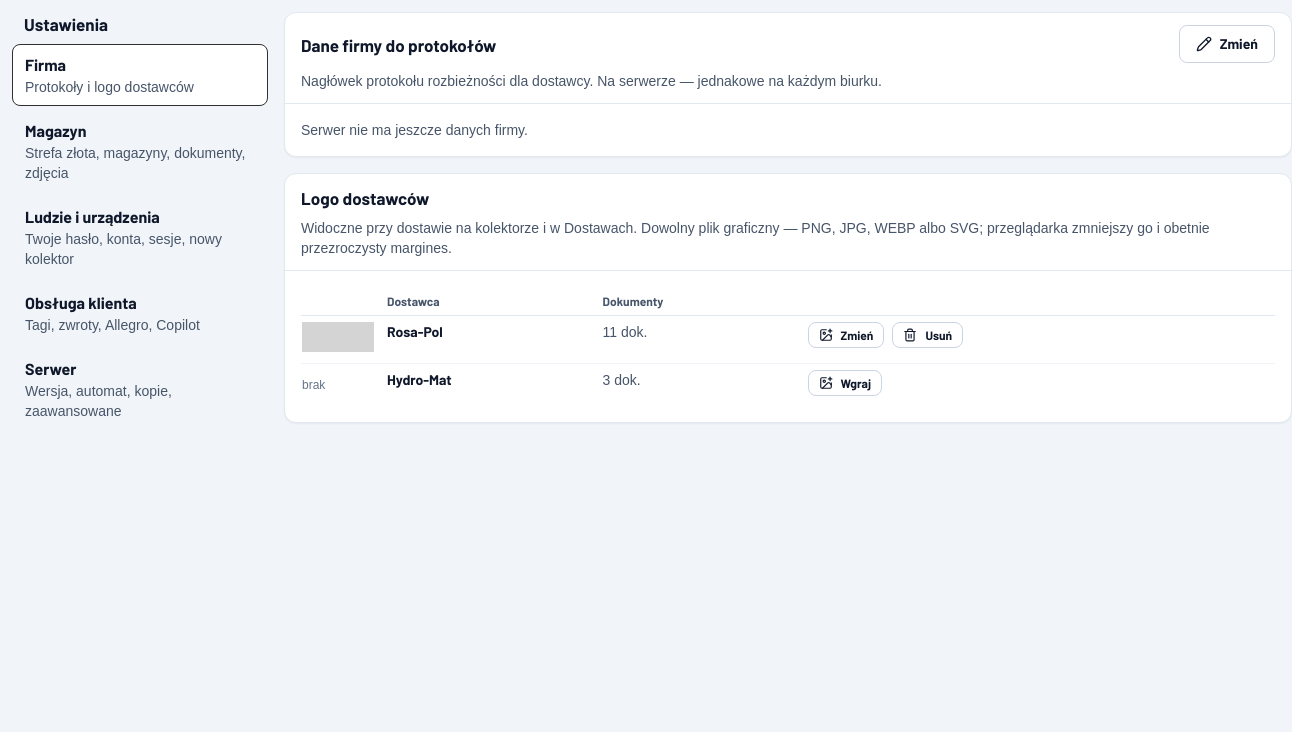
Test: Ustawienia w panelu › zapis danych firmy wysyła komplet sześciu pól
Click the button "Zmień" in the row of "Dane firmy do protokołów" at coordinates (1227, 44), box [1179, 25, 1275, 63]
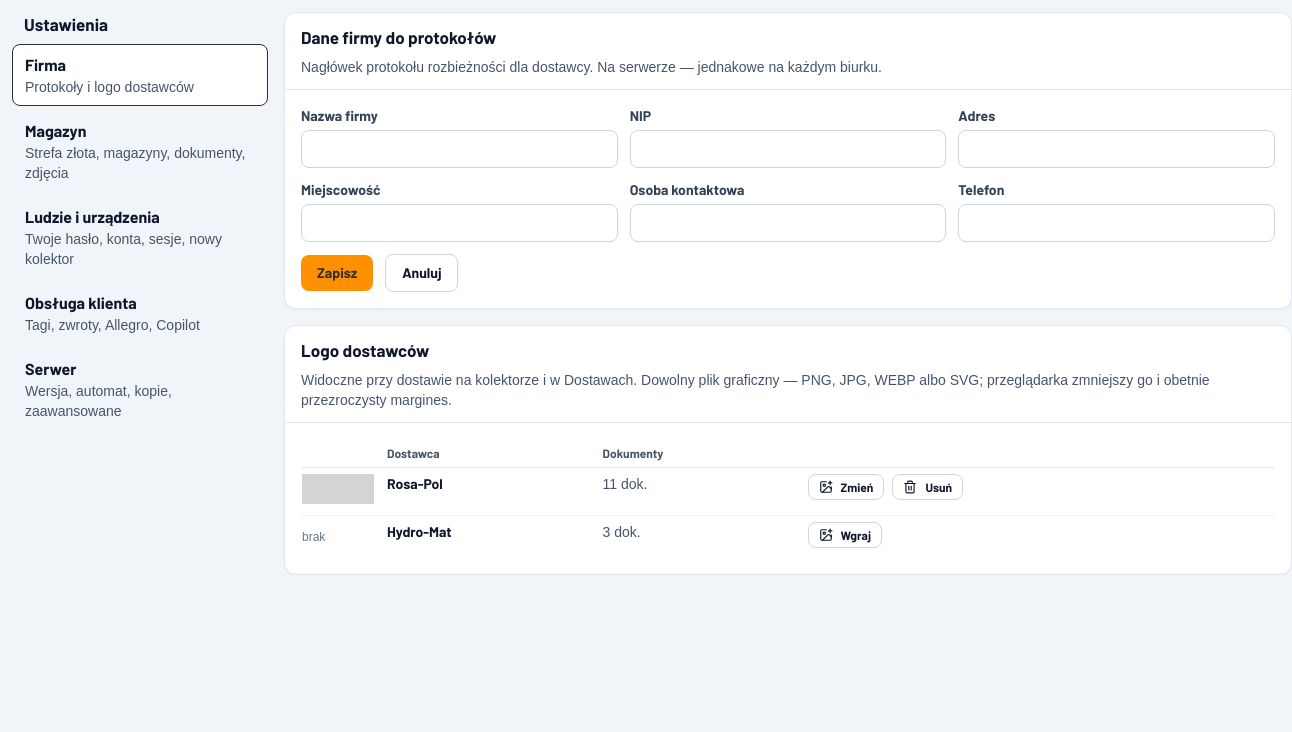
Type "Kraków" into the field labelled "Miejscowość" at coordinates (459, 223), box [301, 204, 618, 242]
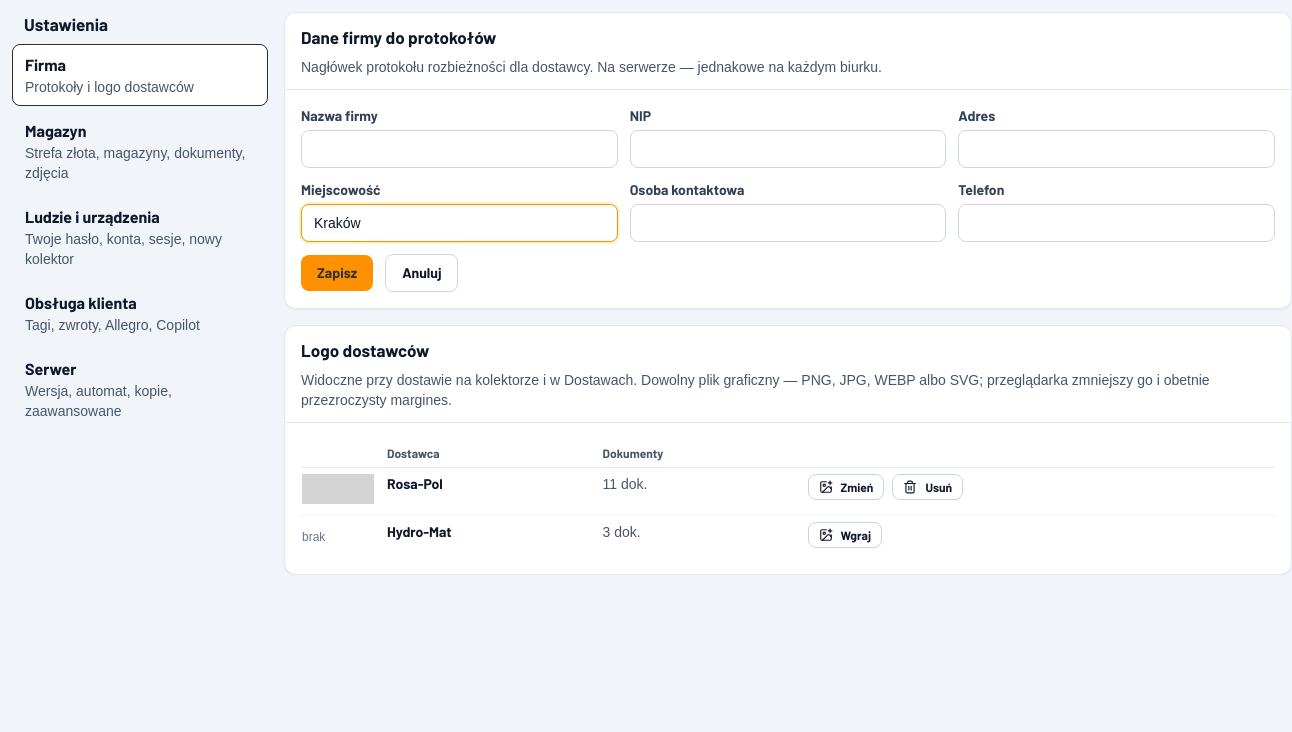
Click the button "Zapisz" at coordinates (337, 273), box [301, 255, 373, 291]
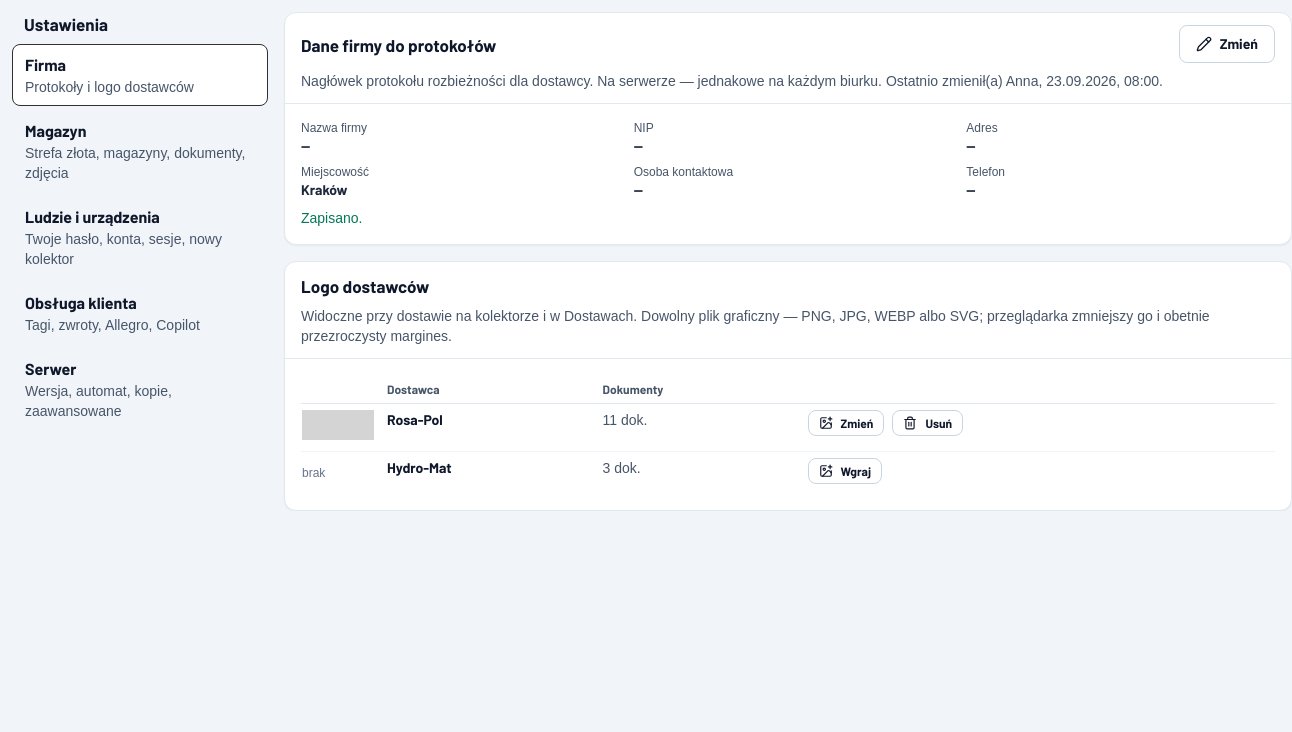
Result: the text "Kraków" is shown at [301, 181, 348, 198]
Result: the field is gone
